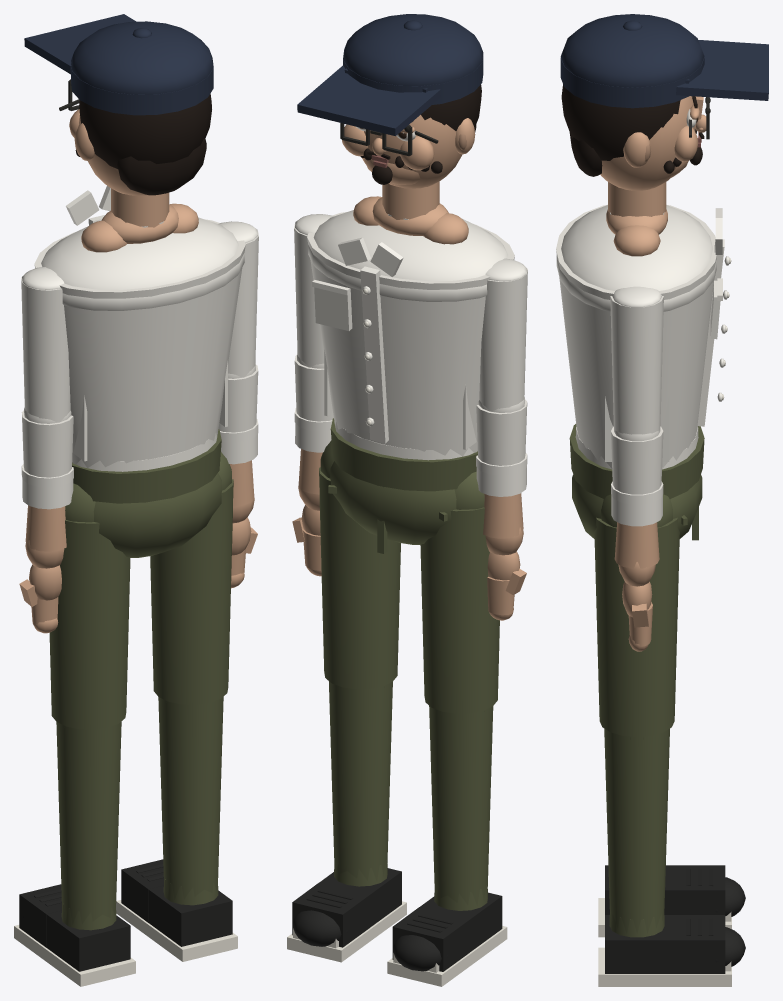
Rendered from male_2.glb.
3 renders of one model, left to right at view 1: azimuth 30°, elevation 25°; view 2: azimuth 150°, elevation 25°; view 3: azimuth 270°, elevation 25°, orthographic.
Parts seen in each view (by area): view 1: Mesh_Torso, Mesh_ThighR, Mesh_ThighL, Mesh_Cap, Mesh_ShinL, Mesh_ShinR, Mesh_Pelvis, Mesh_Hair, Mesh_LowerArmR, Mesh_UpperArmR, Mesh_FootL, Mesh_FootR (+8 smaller); view 2: Mesh_Torso, Mesh_Cap, Mesh_ThighR, Mesh_ThighL, Mesh_ShinR, Mesh_ShinL, Mesh_Pelvis, Mesh_LowerArmR, Mesh_UpperArmR, Mesh_Head, Mesh_Neck, Mesh_ToeR (+9 smaller); view 3: Mesh_Torso, Mesh_Cap, Mesh_ThighL, Mesh_ShinL, Mesh_UpperArmL, Mesh_LowerArmL, Mesh_Head, Mesh_Pelvis, Mesh_Hair, Mesh_FootL, Mesh_ToeL, Mesh_Neck (+3 smaller).
Boxes of the visible parts, x1,y1,x2,y2 form: Mesh_Torso: (34,186,245,471); Mesh_ThighR: (49,483,130,729); Mesh_ThighL: (150,452,233,704); Mesh_Cap: (24,14,213,115); Mesh_ShinL: (158,696,223,905); Mesh_ShinR: (56,721,121,930); Mesh_Pelvis: (72,429,221,557); Mesh_Hair: (79,93,211,195); Mesh_LowerArmR: (21,407,73,568); Mesh_UpperArmR: (21,267,70,422); Mesh_FootL: (116,885,237,961); Mesh_FootR: (14,910,135,986); Mesh_Torso: (307,210,514,460); Mesh_Cap: (297,14,483,136); Mesh_ThighR: (420,471,499,713); Mesh_ThighL: (319,440,400,689); Mesh_ShinR: (429,706,493,910); Mesh_ShinL: (329,681,392,886); Mesh_Pelvis: (328,418,477,553); Mesh_LowerArmR: (476,397,527,555); Mesh_UpperArmR: (479,258,527,410); Mesh_Head: (342,115,475,188); Mesh_Neck: (353,181,468,244); Mesh_ToeR: (392,907,469,971); Mesh_Torso: (556,204,731,469); Mesh_Cap: (560,14,768,108); Mesh_ThighL: (594,494,679,736); Mesh_ShinL: (604,728,669,937); Mesh_UpperArmL: (610,286,663,434); Mesh_LowerArmL: (611,426,663,586); Mesh_Head: (600,96,706,190); Mesh_Pelvis: (569,424,704,540); Mesh_Hair: (561,84,680,176); Mesh_FootL: (598,915,731,986); Mesh_ToeL: (670,915,745,973); Mesh_Neck: (606,182,667,256).
Bounding box in the file's own units: 0.4775 × 1.82 × 0.3794.
